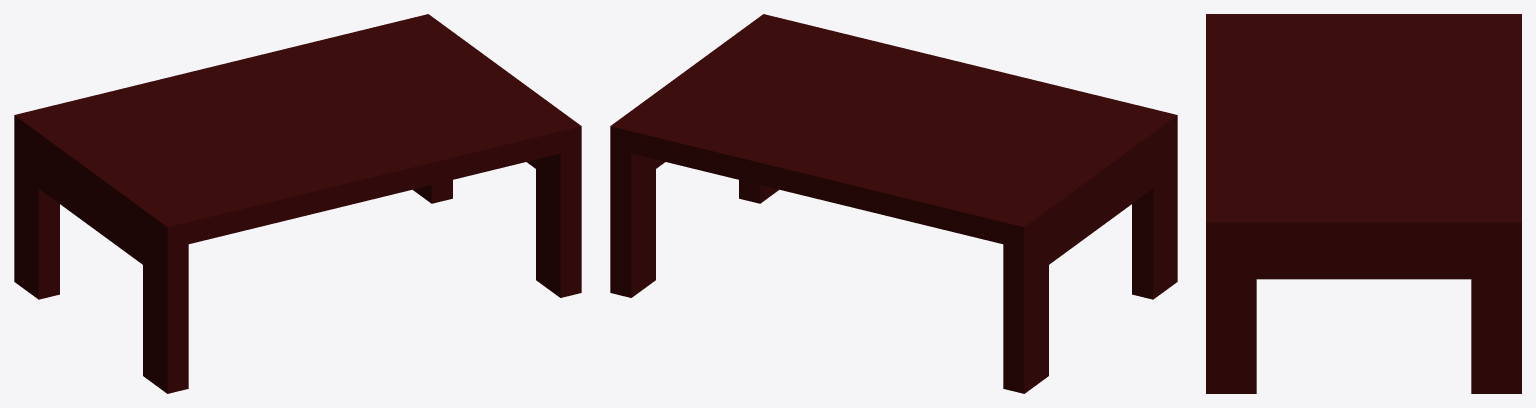
Rendered from table bta.obj.
The picture shows the model from 3 angles, left to right: view 1: azimuth 30°, elevation 25°; view 2: azimuth 150°, elevation 25°; view 3: azimuth 270°, elevation 25°; orthographic projection. The views are drawn at different scales.
Size of the model in its own units: 39 by 15 by 25.
1 material, 1 textured.
